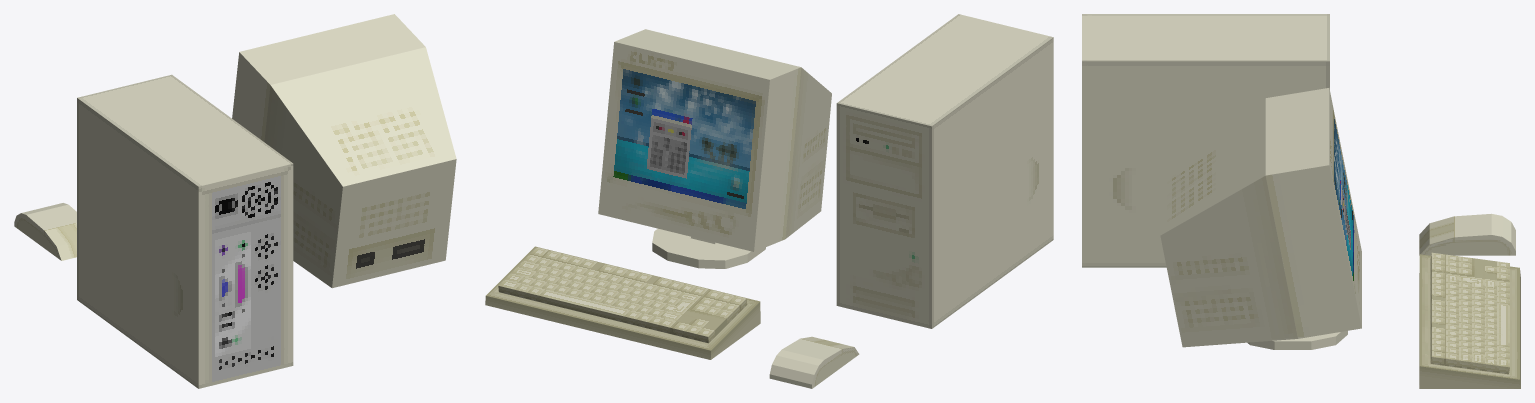
3 renders of one model, left to right at view 1: azimuth 30°, elevation 25°; view 2: azimuth 150°, elevation 25°; view 3: azimuth 270°, elevation 25°, orthographic. The views are drawn at different scales.
Parts seen in each view (by area): view 1: Case, MonitorOn, Mouse; view 2: Case, MonitorOn, Keyboard, Mouse; view 3: MonitorOn, Case, Keyboard, Mouse.
Boxes of the visible parts, bbox=[...] form: Case: bbox=[77, 74, 293, 388]; MonitorOn: bbox=[232, 14, 456, 288]; Mouse: bbox=[14, 203, 76, 260]; Case: bbox=[836, 14, 1053, 328]; MonitorOn: bbox=[598, 29, 831, 268]; Keyboard: bbox=[485, 246, 760, 359]; Mouse: bbox=[769, 336, 859, 388]; MonitorOn: bbox=[1160, 88, 1361, 349]; Case: bbox=[1082, 14, 1329, 267]; Keyboard: bbox=[1419, 252, 1520, 388]; Mouse: bbox=[1419, 213, 1515, 255].
Size of the model in its own units: 0.873 by 0.495 by 0.9236.
Materials: 4 (4 with a texture image).
